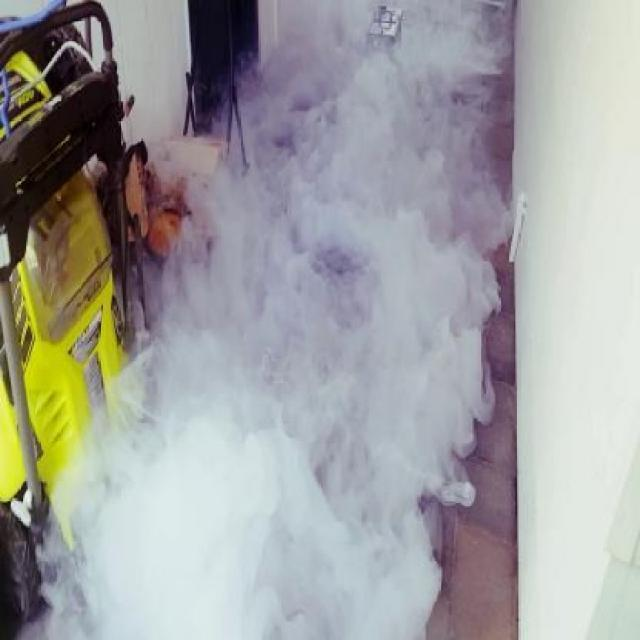Smoke: (35, 2, 512, 640)
